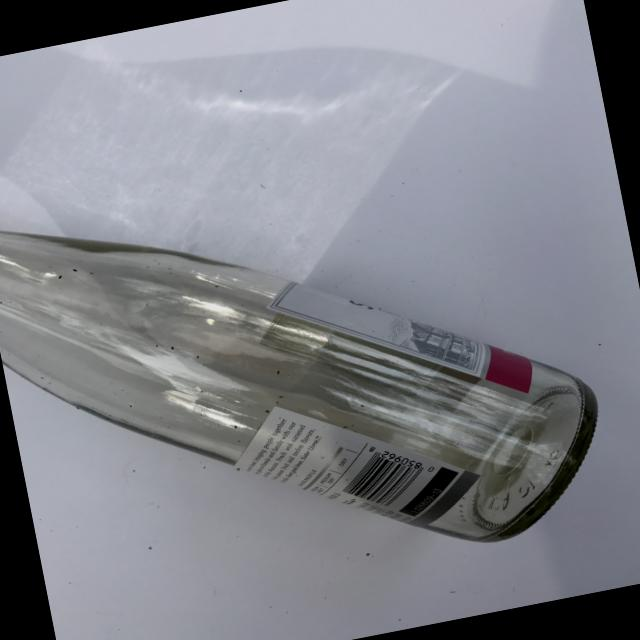Glass: (0, 103, 632, 640)
